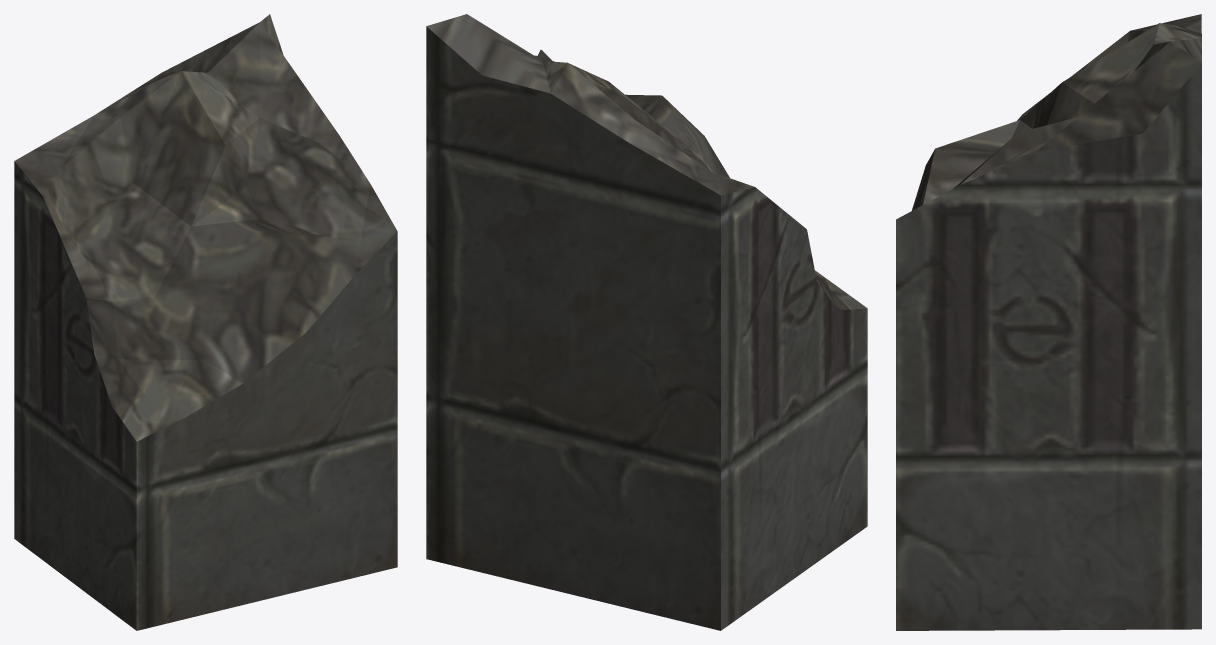
File: F_shizhu008.fbx
3 renders of one model, left to right at view 1: azimuth 30°, elevation 25°; view 2: azimuth 150°, elevation 25°; view 3: azimuth 270°, elevation 25°, orthographic. The views are drawn at different scales.
Parts seen in each view (by area): view 1: F_shizhu008; view 2: F_shizhu008; view 3: F_shizhu008.
Part boxes in pixels (left/top/right/bottom): F_shizhu008: left=14, top=14, right=397, bottom=630; F_shizhu008: left=426, top=14, right=867, bottom=630; F_shizhu008: left=896, top=14, right=1201, bottom=630.
Bounding box in the file's own units: 72.83 × 125 × 60.44.
